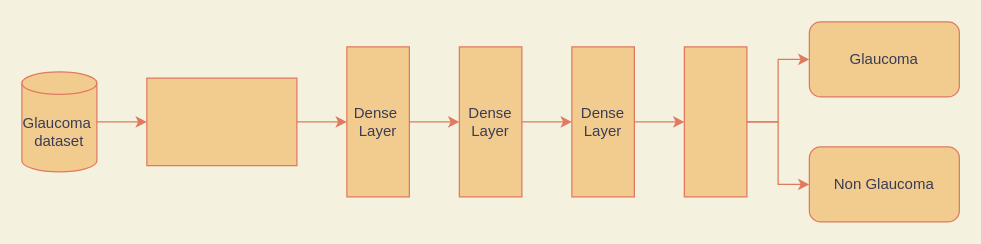
Image size: 981x244. Some labels were removed from this diagram. Each missing label, with the centre of its shape:
"Softmax Layer" belongs at (x=715, y=121).
"Xception model" belongs at (x=221, y=121).
